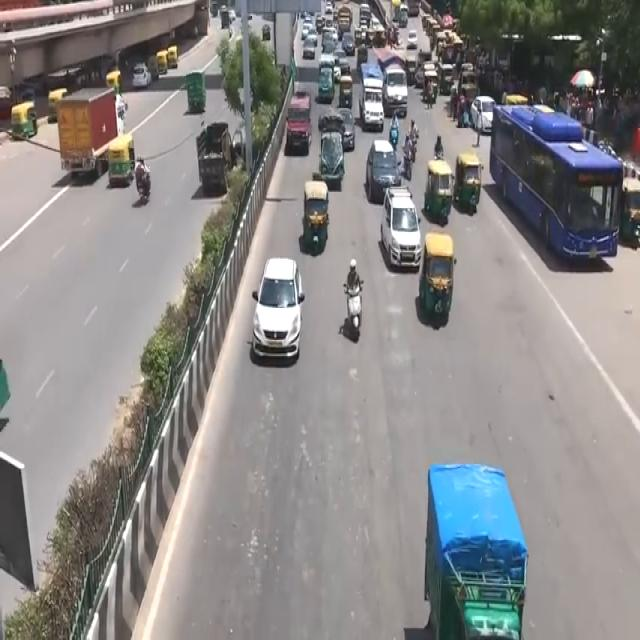BUS: (492, 98, 625, 272)
MOTORCYCLE: (347, 286, 364, 343)
TRUCK: (57, 90, 118, 188)
